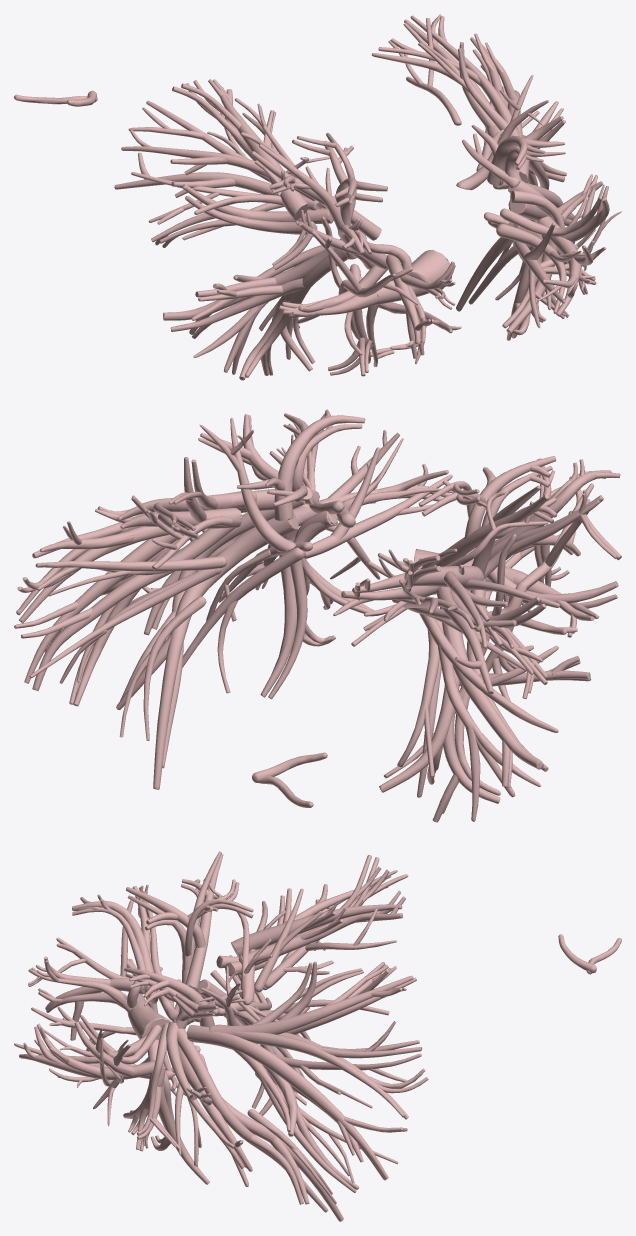
Rendered from lungs.glb.
3 renders of one model, top to bottom at view 1: azimuth 30°, elevation 25°; view 2: azimuth 150°, elevation 25°; view 3: azimuth 270°, elevation 25°, orthographic. The views are drawn at different scales.
Parts seen in each view (by area): view 1: right lung, left lung; view 2: left lung, right lung; view 3: left lung, right lung.
Part boxes in pixels (<box>): right lung: <box>14,79,461,380</box>; left lung: <box>371,14,621,340</box>; left lung: <box>14,409,454,789</box>; right lung: <box>252,456,621,822</box>; left lung: <box>14,961,428,1221</box>; right lung: <box>28,851,621,1115</box>.
Size of the model in its own units: 242 by 158 by 341.
